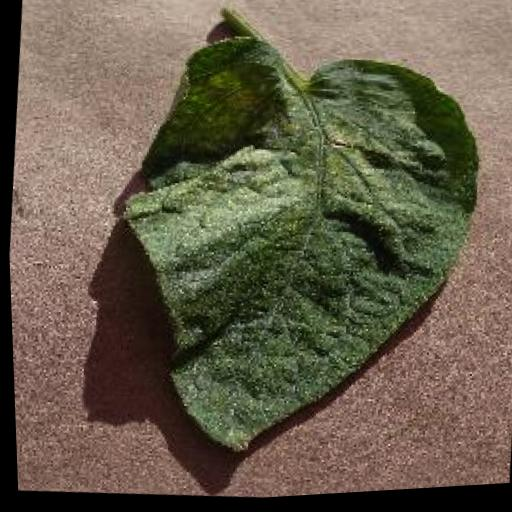Spider Mites: (91, 16, 501, 479)
